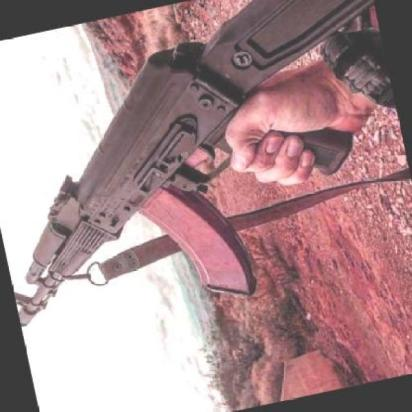Gun: (0, 0, 384, 349)
